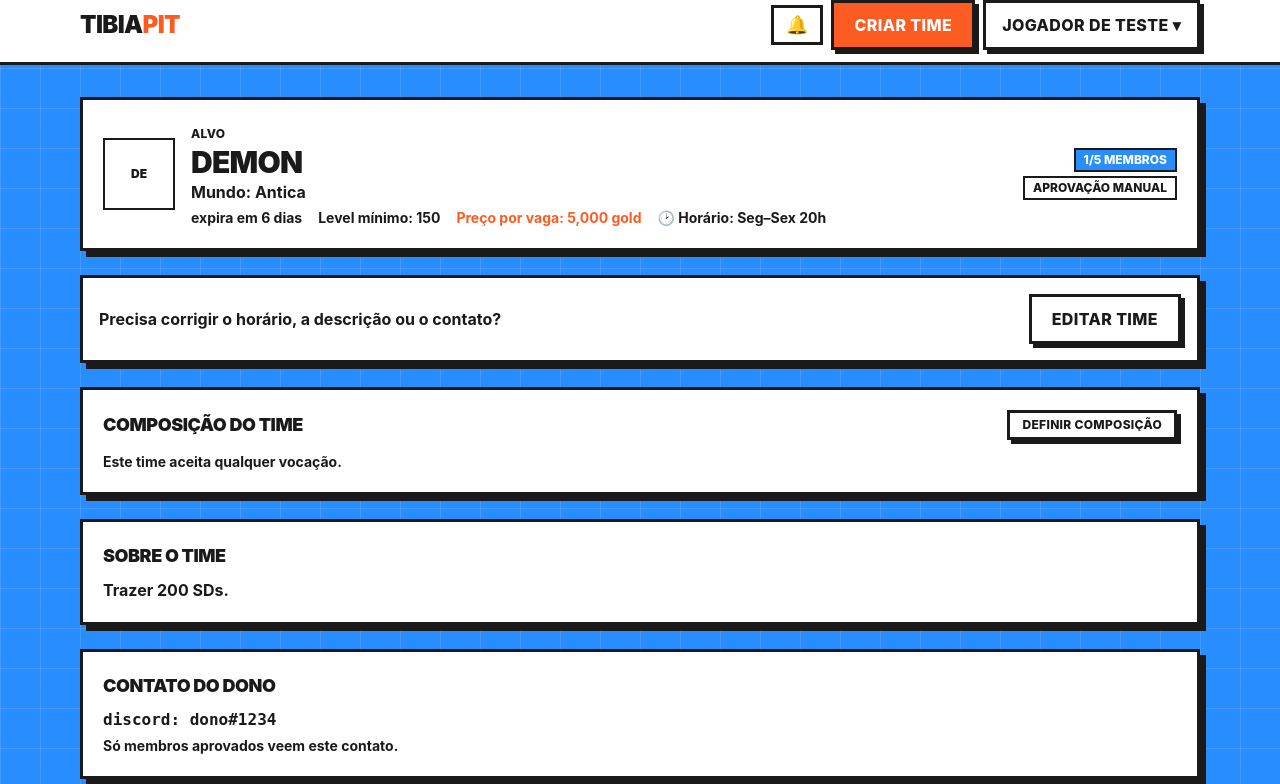
it: TeamDetailPage — editar o time › sucesso fecha o formulario
What coordinates should you click on to do the following:
click the button "Editar time"
I would click on:
 (1105, 319)
Its box is [1029,294,1181,344].
(page scrolled)
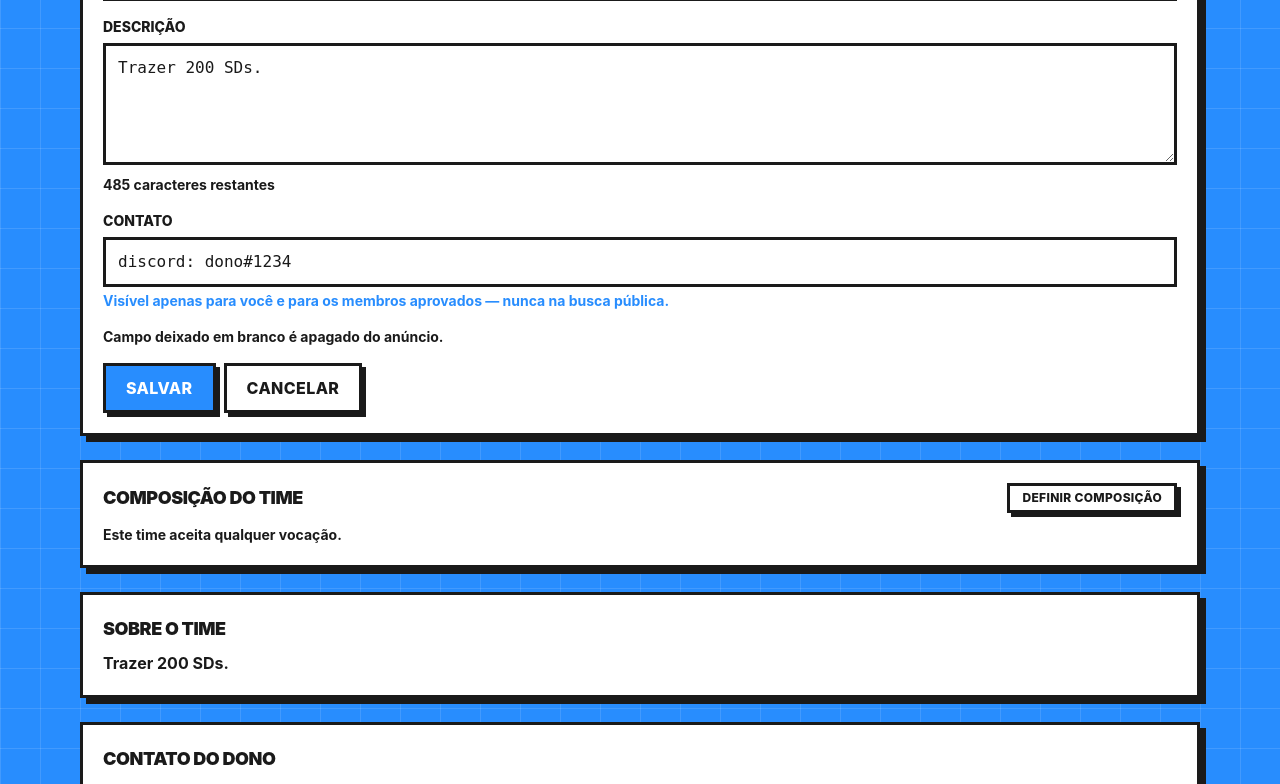
What coordinates should you click on to do the following:
click the button "Salvar"
I would click on:
 (159, 388)
Its box is [103,363,216,413].
(page scrolled)
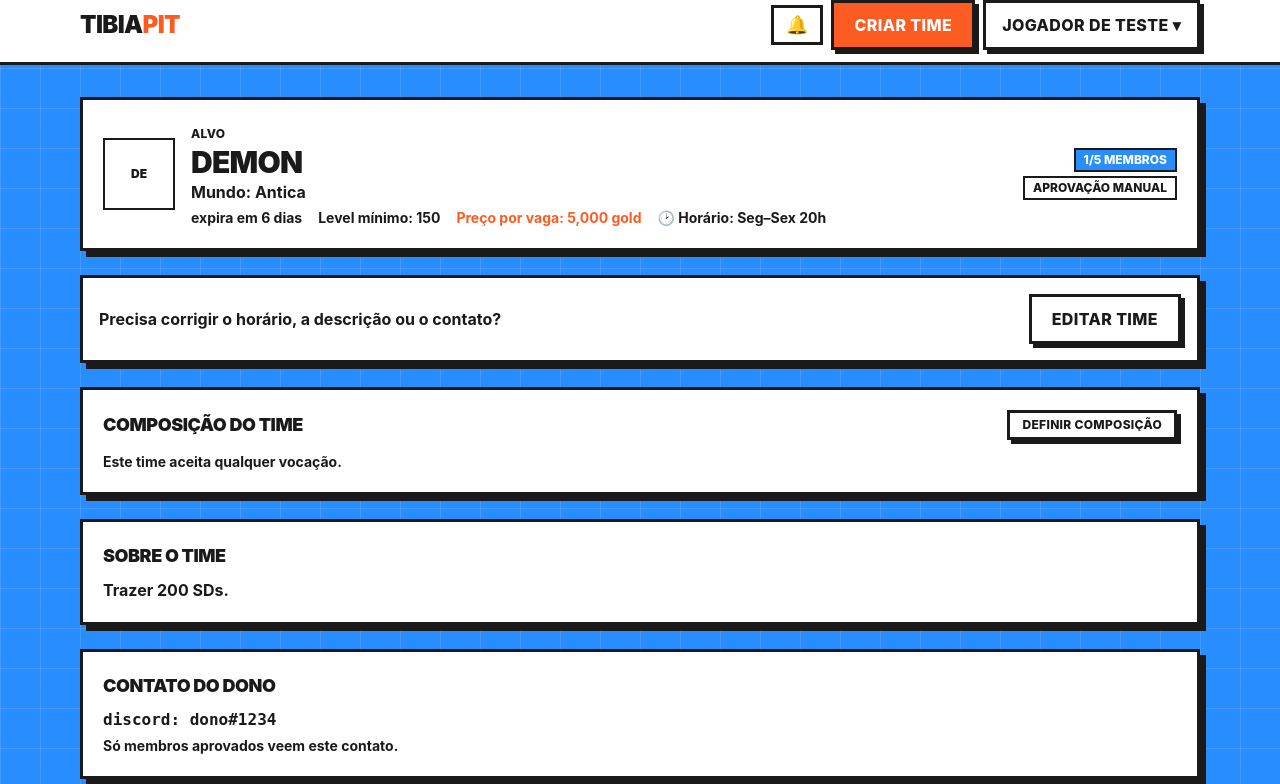
Expected: the button "Editar time" is shown, [1029,294,1181,344]
Expected: the button "Salvar" is gone
